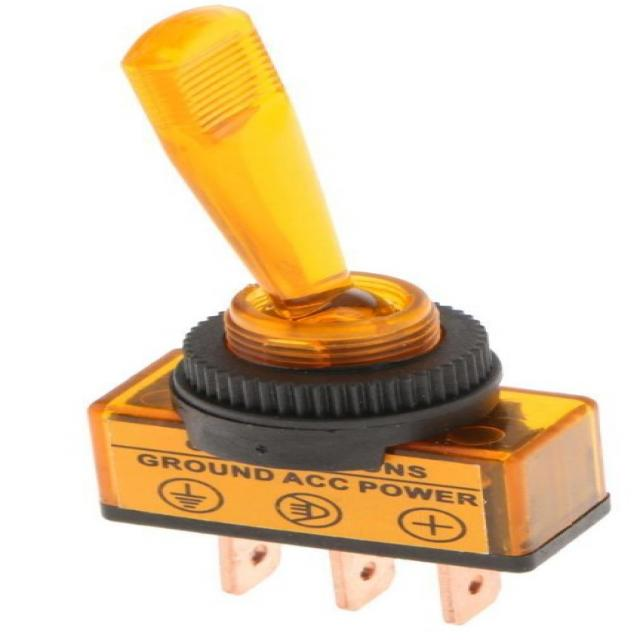toggle switch: (128, 10, 509, 427)
